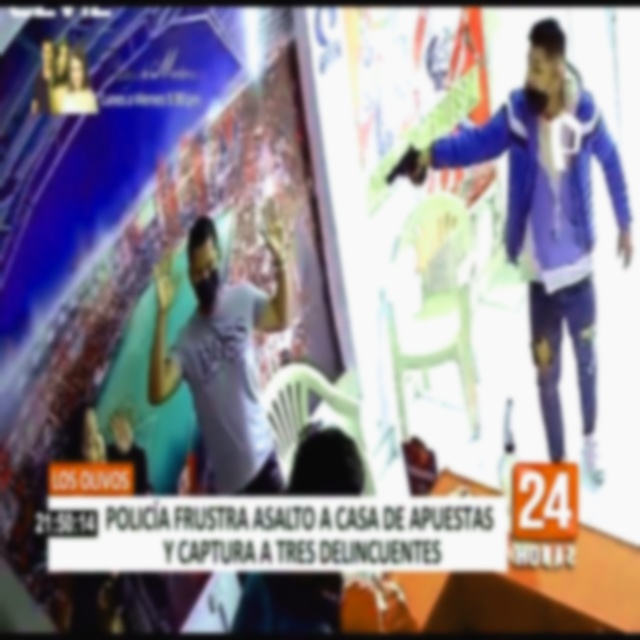gun: (374, 126, 437, 210)
